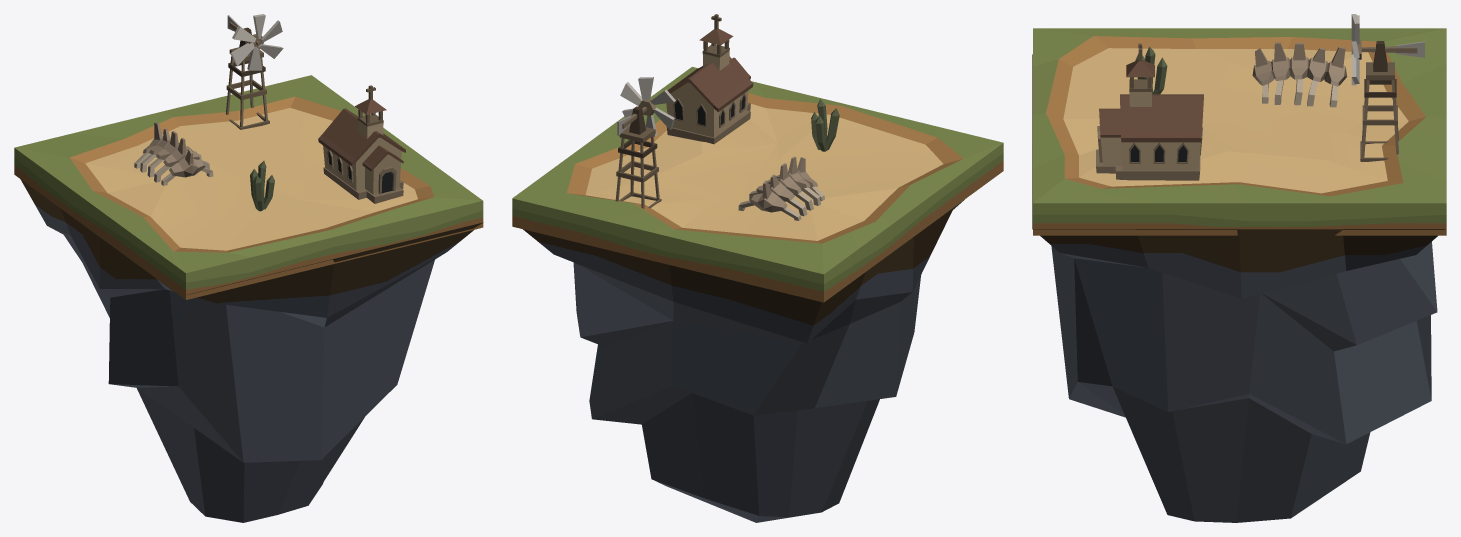
The picture shows the model from 3 angles, left to right: view 1: azimuth 30°, elevation 25°; view 2: azimuth 150°, elevation 25°; view 3: azimuth 270°, elevation 25°; orthographic projection. The views are drawn at different scales.
Visible parts, largest first — view 1: SM_Tile_Cube_FloatingIsland_01, SM_Tile_Cube_Flat_03, SM_Bld_Western_Church_01, SM_Env_Dungeon_Bones_01, SM_Bld_Western_Windmill_01, SM_Bld_Western_Windmill_Blades_01, SM_Env_Western_Cactus_02; view 2: SM_Tile_Cube_FloatingIsland_01, SM_Tile_Cube_Flat_03, SM_Bld_Western_Church_01, SM_Env_Dungeon_Bones_01, SM_Bld_Western_Windmill_01, SM_Bld_Western_Windmill_Blades_01, SM_Env_Western_Cactus_02, SM_Bld_Western_Windmill_Top_01; view 3: SM_Tile_Cube_FloatingIsland_01, SM_Tile_Cube_Flat_03, SM_Bld_Western_Church_01, SM_Env_Dungeon_Bones_01, SM_Bld_Western_Windmill_01, SM_Bld_Western_Windmill_Top_01, SM_Bld_Western_Windmill_Blades_01, SM_Env_Western_Cactus_02.
Boxes of the visible parts, left/top/right/bottom form: SM_Tile_Cube_FloatingIsland_01: left=20, top=179, right=483, bottom=522; SM_Tile_Cube_Flat_03: left=14, top=75, right=483, bottom=299; SM_Bld_Western_Church_01: left=318, top=85, right=405, bottom=203; SM_Env_Dungeon_Bones_01: left=134, top=122, right=213, bottom=185; SM_Bld_Western_Windmill_01: left=226, top=47, right=269, bottom=129; SM_Bld_Western_Windmill_Blades_01: left=230, top=14, right=283, bottom=70; SM_Env_Western_Cactus_02: left=250, top=160, right=274, bottom=211; SM_Tile_Cube_FloatingIsland_01: left=523, top=199, right=964, bottom=522; SM_Tile_Cube_Flat_03: left=512, top=66, right=1003, bottom=302; SM_Bld_Western_Church_01: left=666, top=14, right=753, bottom=144; SM_Env_Dungeon_Bones_01: left=738, top=156, right=824, bottom=220; SM_Bld_Western_Windmill_01: left=615, top=125, right=661, bottom=208; SM_Bld_Western_Windmill_Blades_01: left=620, top=77, right=675, bottom=136; SM_Env_Western_Cactus_02: left=811, top=99, right=839, bottom=151; SM_Bld_Western_Windmill_Top_01: left=617, top=106, right=646, bottom=135; SM_Tile_Cube_FloatingIsland_01: left=1032, top=54, right=1445, bottom=522; SM_Tile_Cube_Flat_03: left=1033, top=28, right=1446, bottom=235; SM_Bld_Western_Church_01: left=1096, top=43, right=1203, bottom=180; SM_Env_Dungeon_Bones_01: left=1252, top=42, right=1347, bottom=107; SM_Bld_Western_Windmill_01: left=1360, top=62, right=1398, bottom=161; SM_Bld_Western_Windmill_Top_01: left=1352, top=41, right=1424, bottom=71; SM_Bld_Western_Windmill_Blades_01: left=1351, top=14, right=1361, bottom=85; SM_Env_Western_Cactus_02: left=1135, top=47, right=1167, bottom=94.
Bounding box in the file's own units: 5.01 × 7.17 × 5.01.
Materials: 8 (8 with a texture image).
